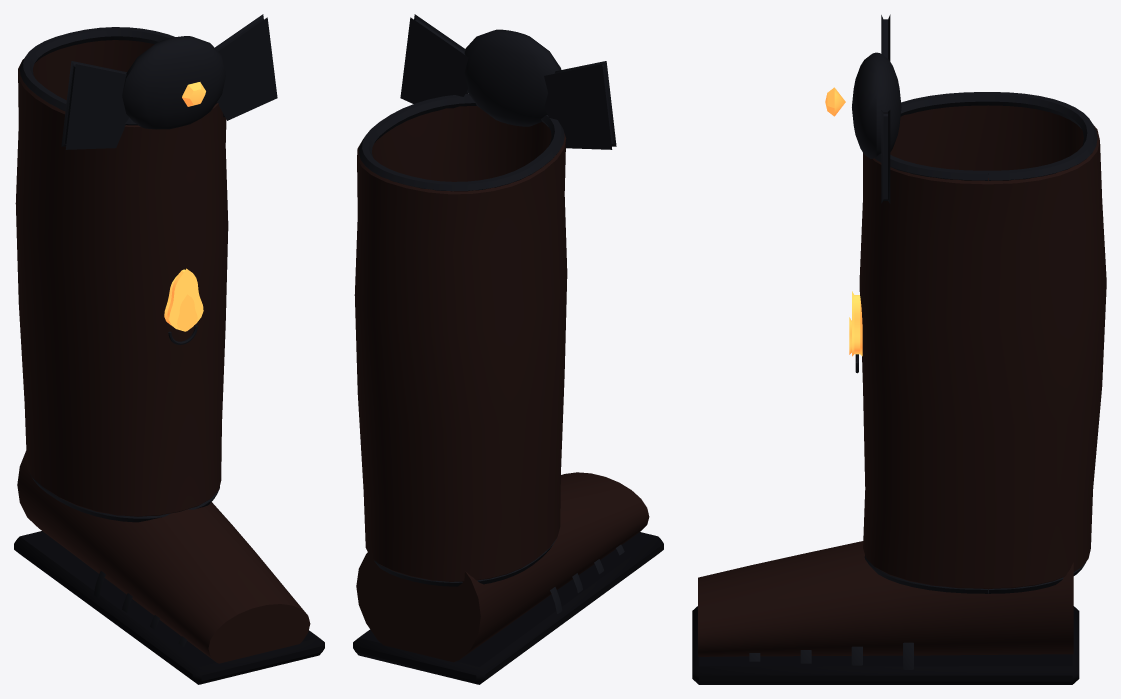
File: esc_ender_of_tomes_boots.glb
The picture shows the model from 3 angles, left to right: view 1: azimuth 30°, elevation 25°; view 2: azimuth 150°, elevation 25°; view 3: azimuth 270°, elevation 25°; orthographic projection. The views are drawn at different scales.
Visible parts, largest first — view 1: esc_ender_of_tomes_boots, AT_foot_L; view 2: esc_ender_of_tomes_boots, AT_foot_L; view 3: esc_ender_of_tomes_boots, AT_foot_L.
Boxes of the visible parts, x1,y1,x2,y2 form: esc_ender_of_tomes_boots: (15,14,277,522); AT_foot_L: (14,451,324,684); esc_ender_of_tomes_boots: (354,14,616,586); AT_foot_L: (353,472,663,684); esc_ender_of_tomes_boots: (825,14,1106,593); AT_foot_L: (692,541,1079,684).
Size of the model in its own units: 0.2244 by 0.5768 by 0.3641.
